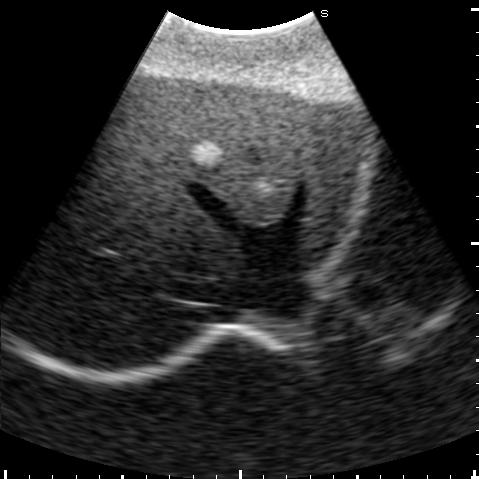S2: (301, 129, 364, 269)
S4: (120, 77, 316, 225)
S7: (18, 239, 216, 374)
S8: (75, 109, 239, 281)
Tumor: (188, 141, 222, 166)
